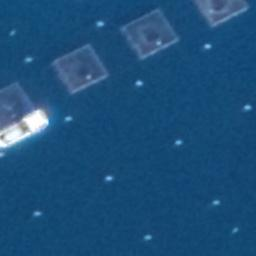square_cover: (120, 5, 185, 65), (46, 41, 112, 100), (1, 81, 41, 137), (195, 1, 253, 31)
